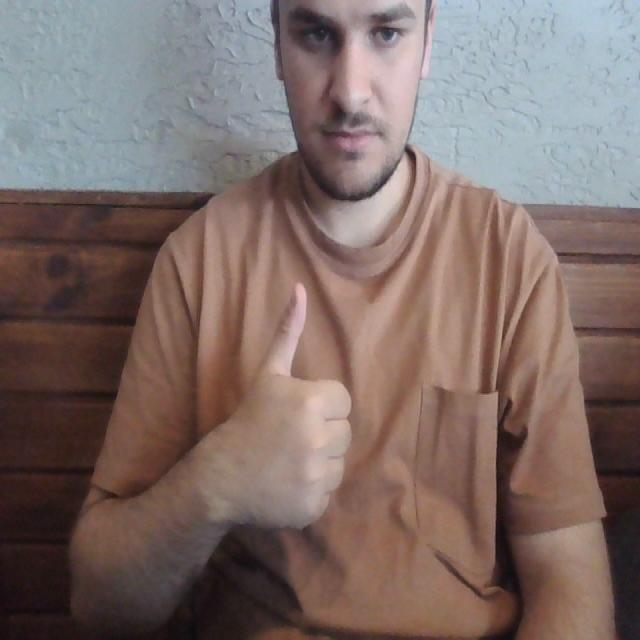Tamam: (212, 276, 356, 541)
